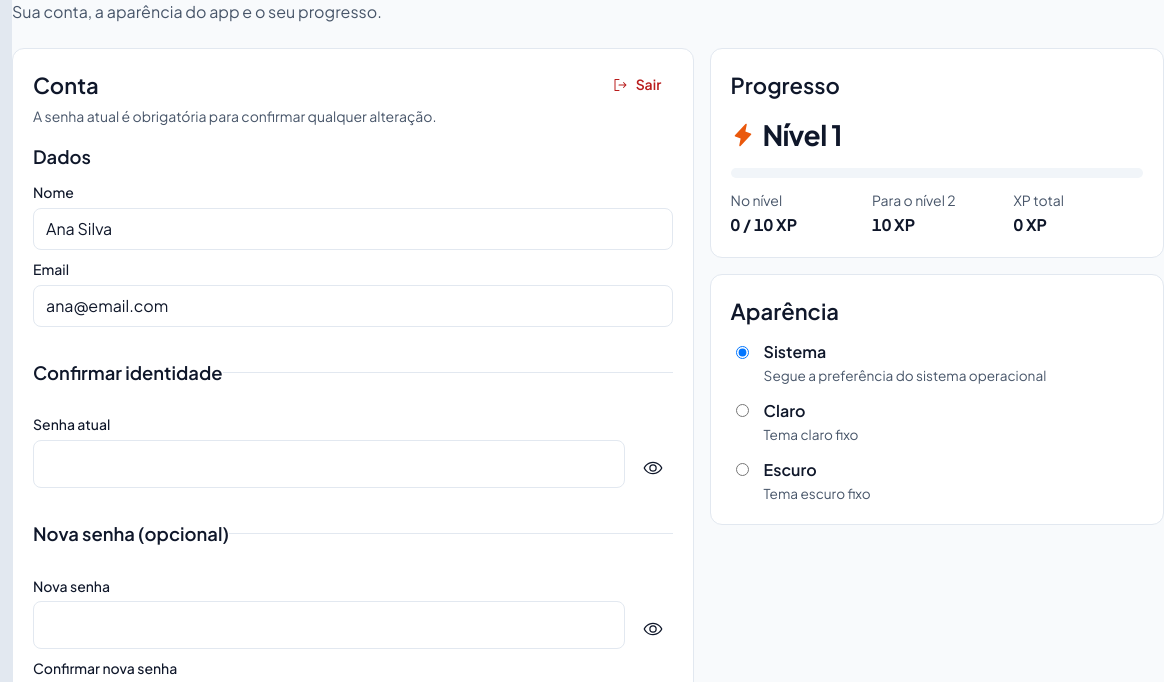
Test: PerfilPage › rejeita nova senha fraca
This screenshot has width=1164, height=682.
Expected: the field showing "Ana Silva" is shown, [33,208,673,250]
In the password field labelled "Senha atual": (329,464) [33,440,625,488], type "Senha@123"
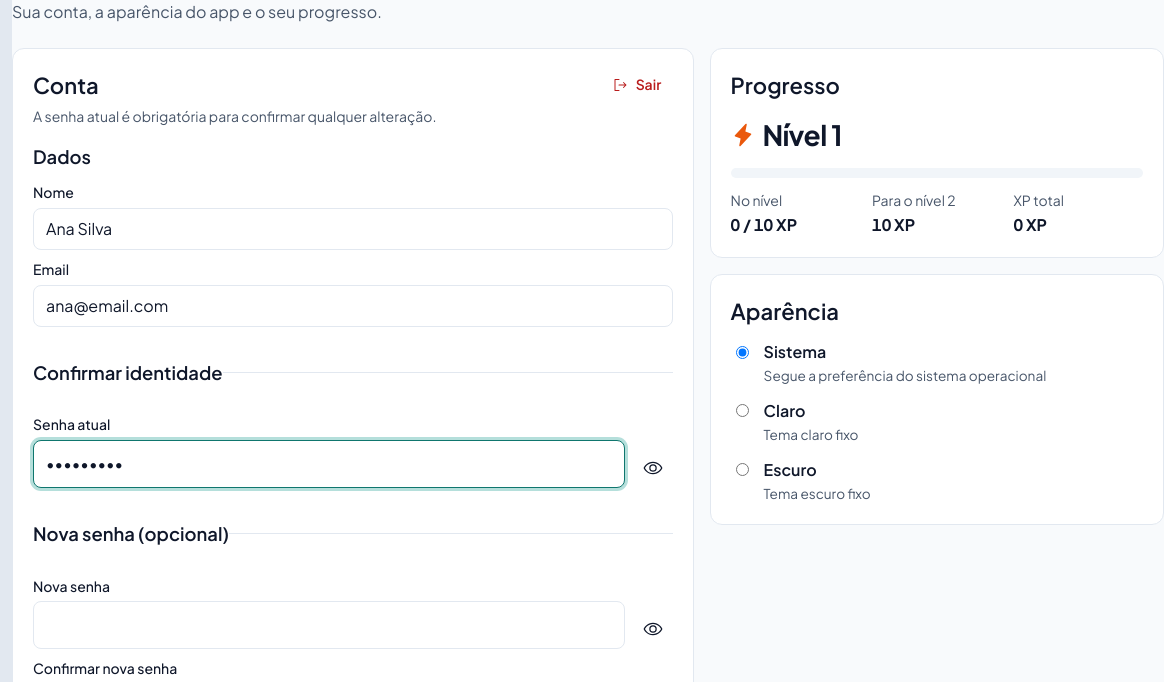
In the password field labelled "Nova senha": (329,625) [33,601,625,649], type "fraca"
(page scrolled)
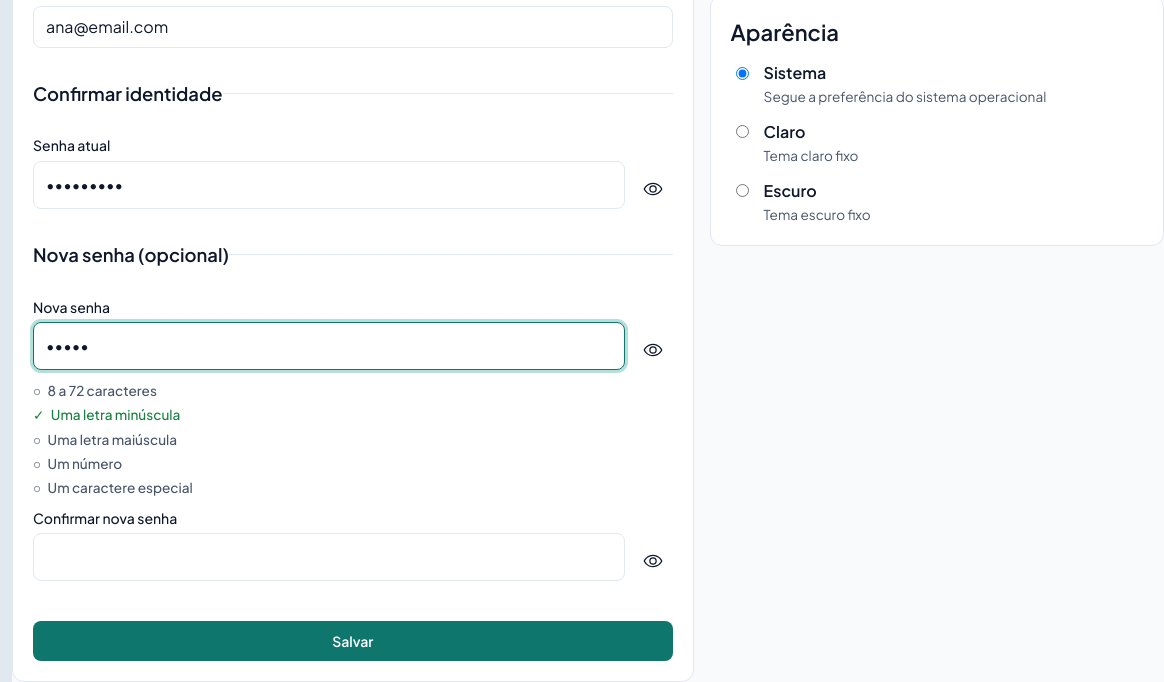
In the password field labelled "Confirmar nova senha": (329,557) [33,533,625,581], type "fraca"
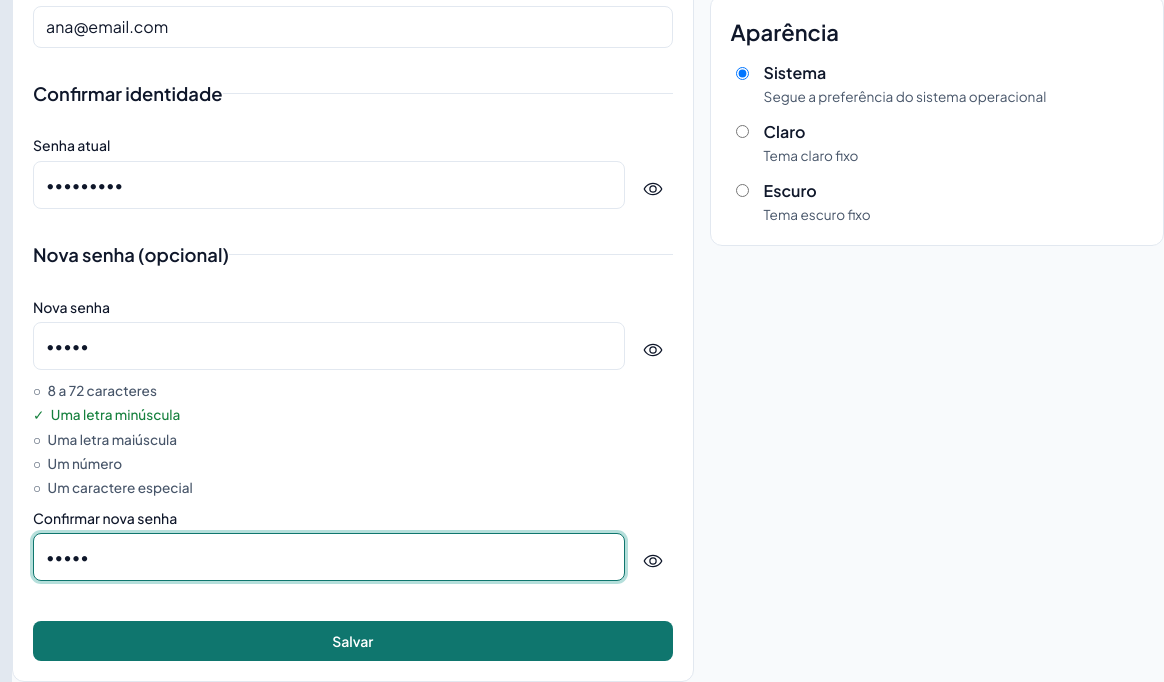
Click the button "Salvar": (353,641) [33,621,673,661]
(page scrolled)
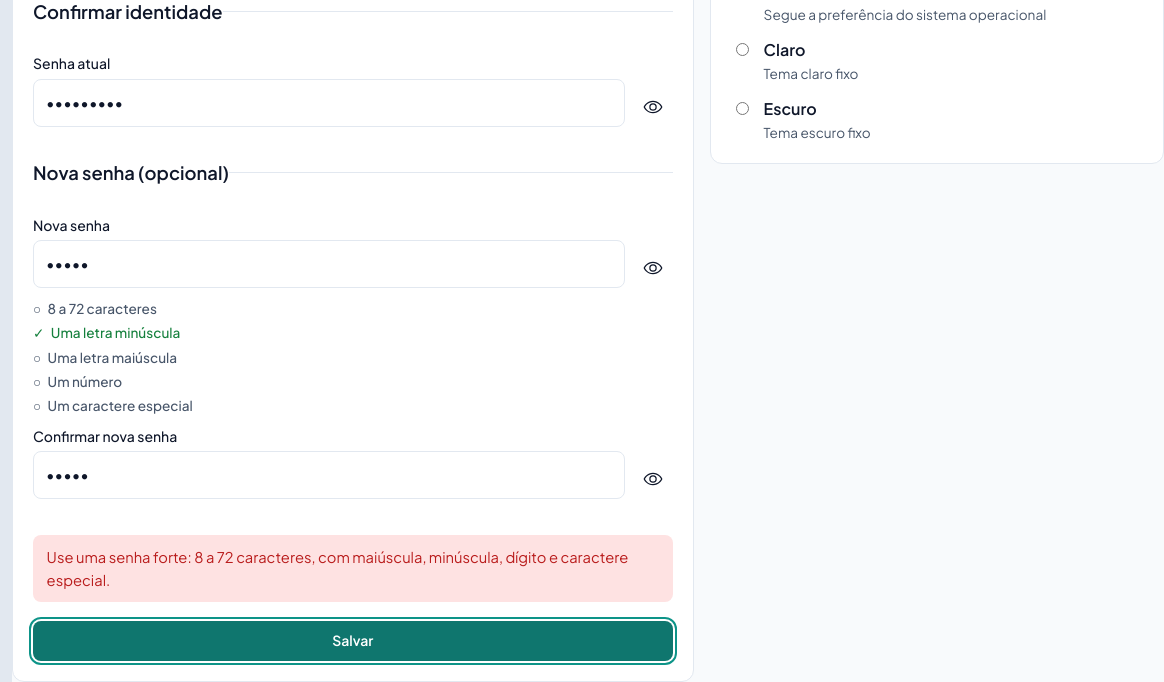
Expected: the message shows "senha forte", [47,548,628,589]
